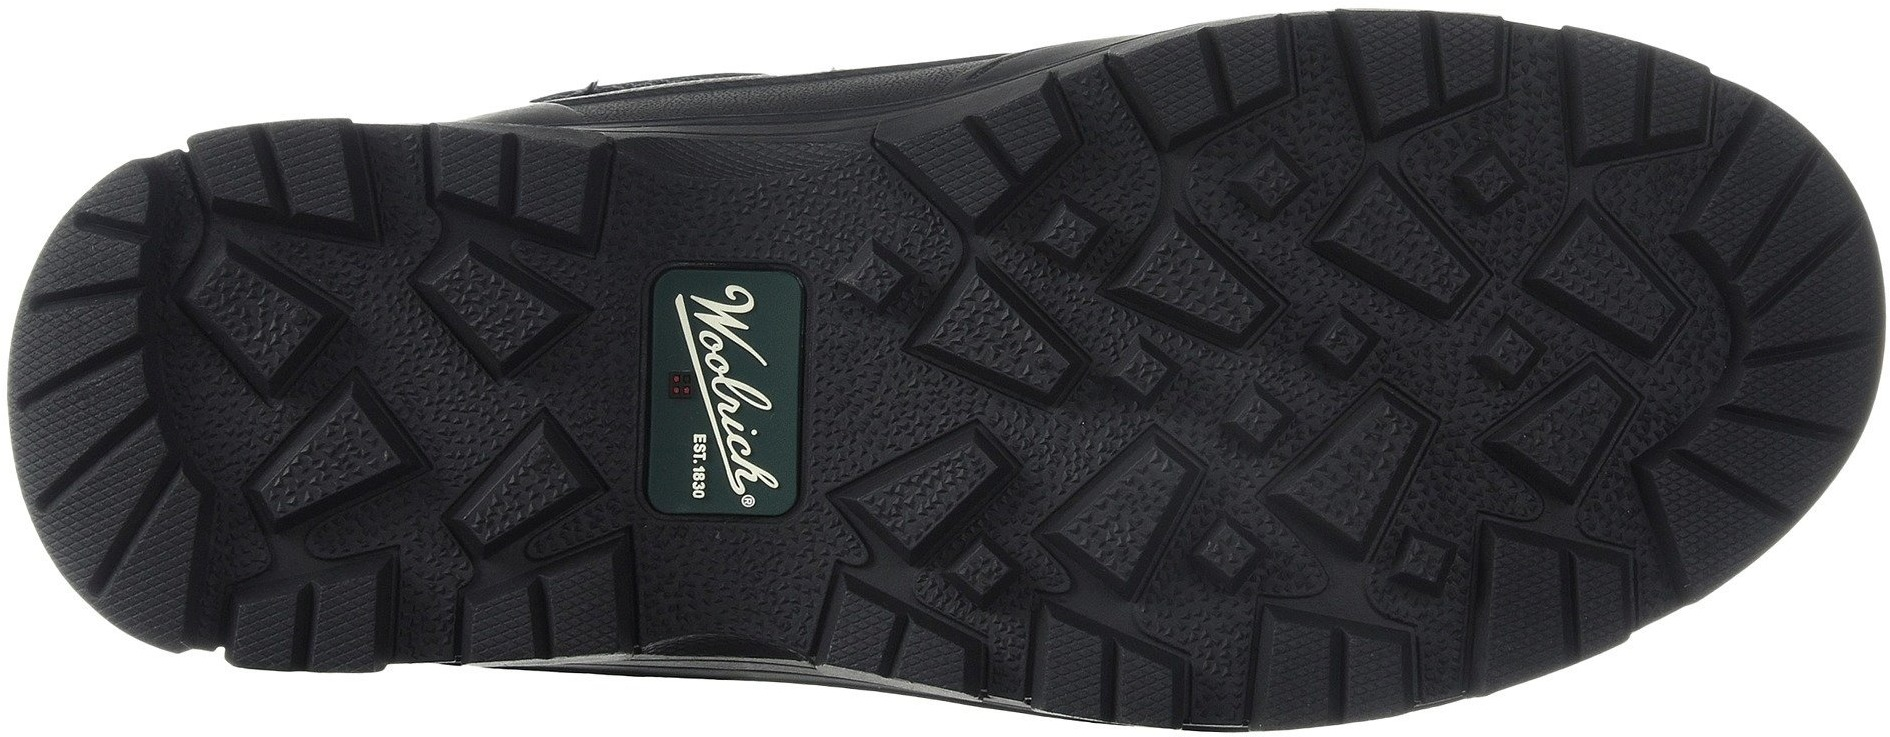line: (661, 282, 790, 439)
quad: (817, 218, 1217, 610), (375, 214, 633, 558), (1404, 127, 1686, 382), (1696, 207, 1890, 402), (181, 115, 378, 275), (20, 305, 165, 460), (1258, 607, 1411, 726), (1305, 288, 1389, 384)
text: (661, 282, 790, 439)
